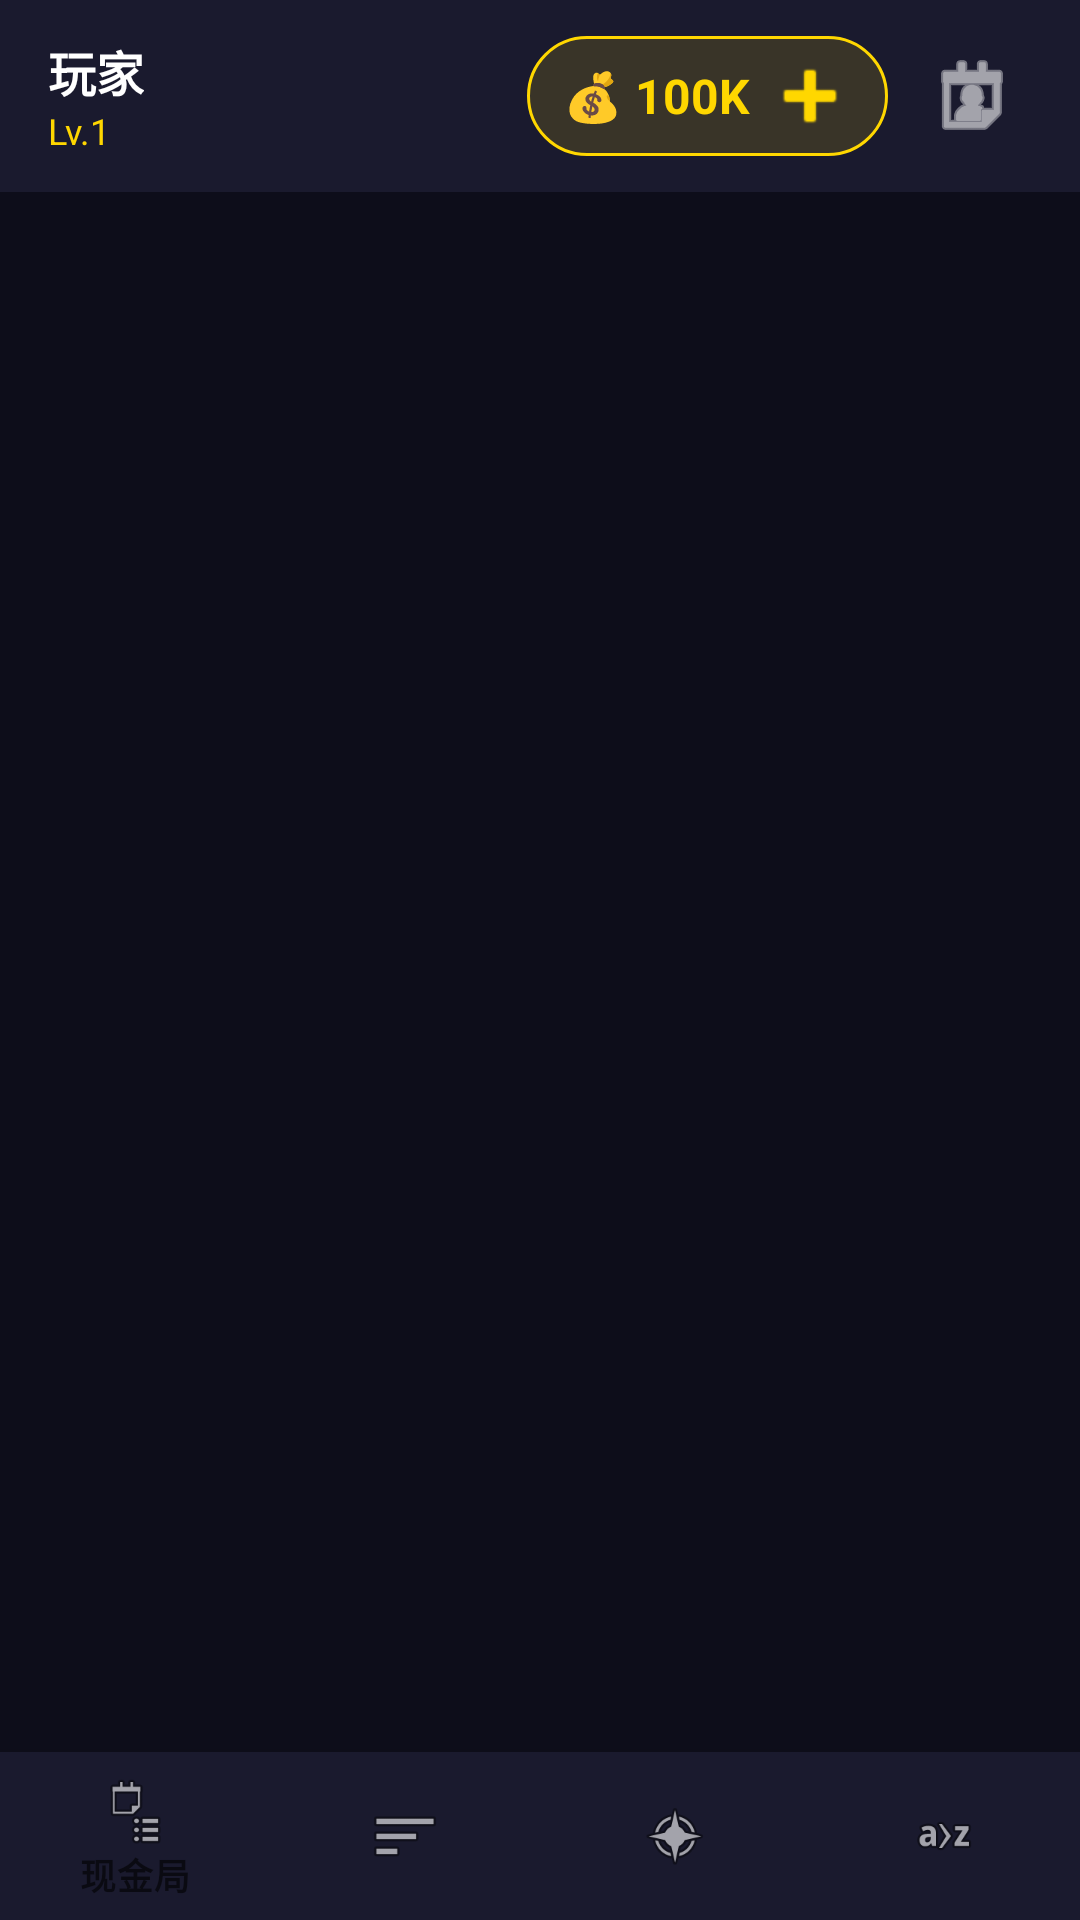

Icon click points for this 1080*1920 phone screenshot, format (x,y):
add: (810,96)
calendar: (972,95)
